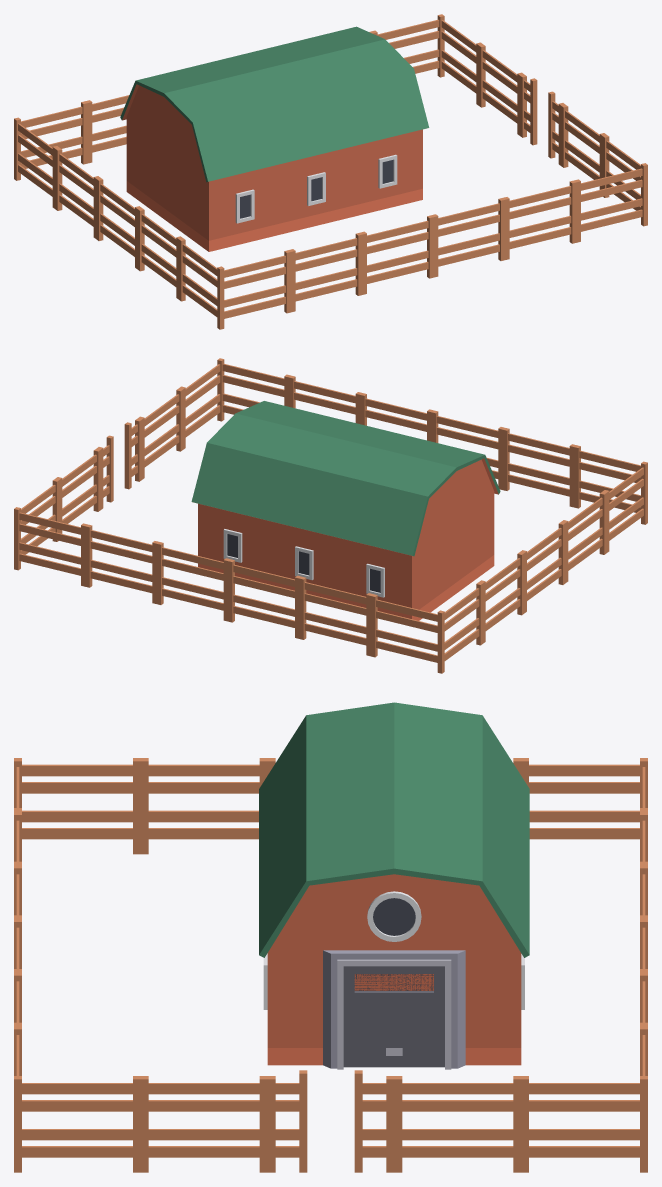
Rendered from ambar.fbx.
3 views of the same model, one above another, from view 1: azimuth 30°, elevation 25°; view 2: azimuth 150°, elevation 25°; view 3: azimuth 270°, elevation 25° (orthographic). The views are drawn at different scales.
Parts seen in each view (by area): view 1: roof_barn_36, block_30, roof_barn_37, roof_barn_38, block_28, block_29, roof_barn_39, block_56, roof_barn_41, roof_barn_40, fence_wood_56, fence_wood_15 (+39 smaller); view 2: roof_barn_39, roof_barn_41, roof_barn_40, block_56, block_33, block_31, roof_barn_36, block_30, roof_barn_37, roof_barn_38, fence_wood_63, fence_wood_68 (+42 smaller); view 3: wall_garageDoorClosed_71, roof_barn_41, roof_barn_38, roof_barn_37, roof_barn_40, roof_barn_39, roof_barn_36, block_31, block_28, fence_wood_20, fence_wood_1, fence_wood_71 (+15 smaller).
Part boxes in pixels (bbox=[...]): roof_barn_36: bbox=[164, 74, 279, 182]; block_30: bbox=[167, 147, 280, 251]; roof_barn_37: bbox=[236, 58, 357, 164]; roof_barn_38: bbox=[307, 39, 429, 146]; block_28: bbox=[351, 129, 422, 216]; block_29: bbox=[280, 147, 351, 234]; roof_barn_39: bbox=[120, 61, 236, 146]; block_56: bbox=[126, 117, 167, 221]; roof_barn_41: bbox=[286, 26, 384, 58]; roof_barn_40: bbox=[214, 44, 306, 75]; fence_wood_56: bbox=[217, 281, 291, 329]; fence_wood_15: bbox=[503, 180, 576, 229]; roof_barn_39: bbox=[334, 448, 456, 556]; roof_barn_41: bbox=[191, 413, 306, 520]; roof_barn_40: bbox=[263, 431, 383, 536]; block_56: bbox=[340, 522, 452, 620]; block_33: bbox=[269, 521, 340, 601]; block_31: bbox=[198, 503, 269, 584]; roof_barn_36: bbox=[379, 436, 500, 520]; block_30: bbox=[453, 491, 494, 595]; roof_barn_37: bbox=[307, 420, 413, 449]; roof_barn_38: bbox=[236, 401, 341, 430]; fence_wood_63: bbox=[370, 625, 444, 673]; fence_wood_68: bbox=[85, 524, 158, 574]; wall_garageDoorClosed_71: bbox=[323, 950, 465, 1069]; roof_barn_41: bbox=[394, 809, 529, 957]; roof_barn_38: bbox=[259, 809, 394, 957]; roof_barn_37: bbox=[259, 756, 394, 895]; roof_barn_40: bbox=[394, 756, 529, 895]; roof_barn_39: bbox=[394, 702, 529, 841]; roof_barn_36: bbox=[259, 702, 394, 841]; block_31: bbox=[394, 950, 521, 1065]; block_28: bbox=[267, 950, 394, 1065]; fence_wood_20: bbox=[140, 1076, 267, 1125]; fence_wood_1: bbox=[394, 1076, 521, 1125]; fence_wood_71: bbox=[394, 1125, 521, 1172].
Bounding box in the file's own units: 60 × 17.35 × 50.
